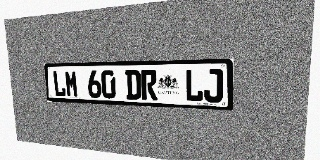0: (101, 70, 116, 99)
6: (87, 70, 102, 98)
D: (125, 70, 141, 100)
J: (204, 69, 223, 103)
L: (185, 69, 203, 102), (52, 71, 66, 97)
M: (65, 70, 79, 97)
R: (141, 69, 157, 100)
